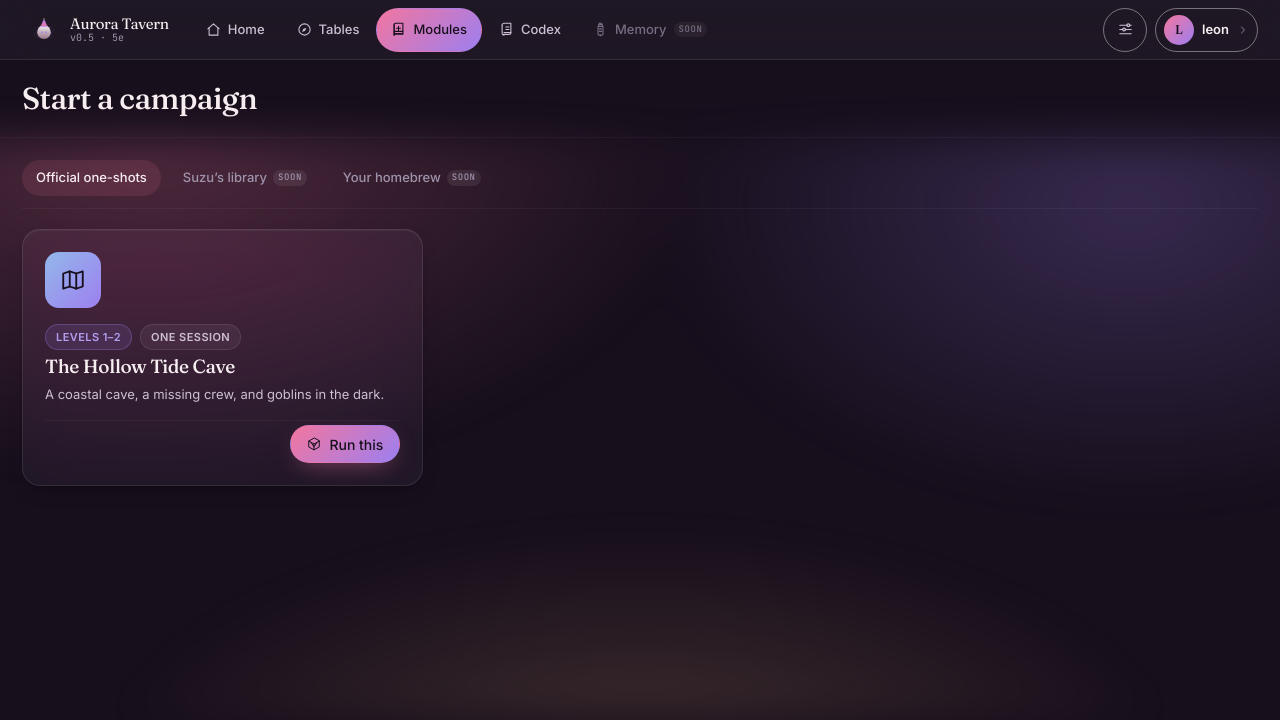
Scenario: content_rating SFW interlock › allows Mature on a private table (default)
Click the button "Run this". click: [345, 444]
box: [290,425,400,463]
(page scrolled)
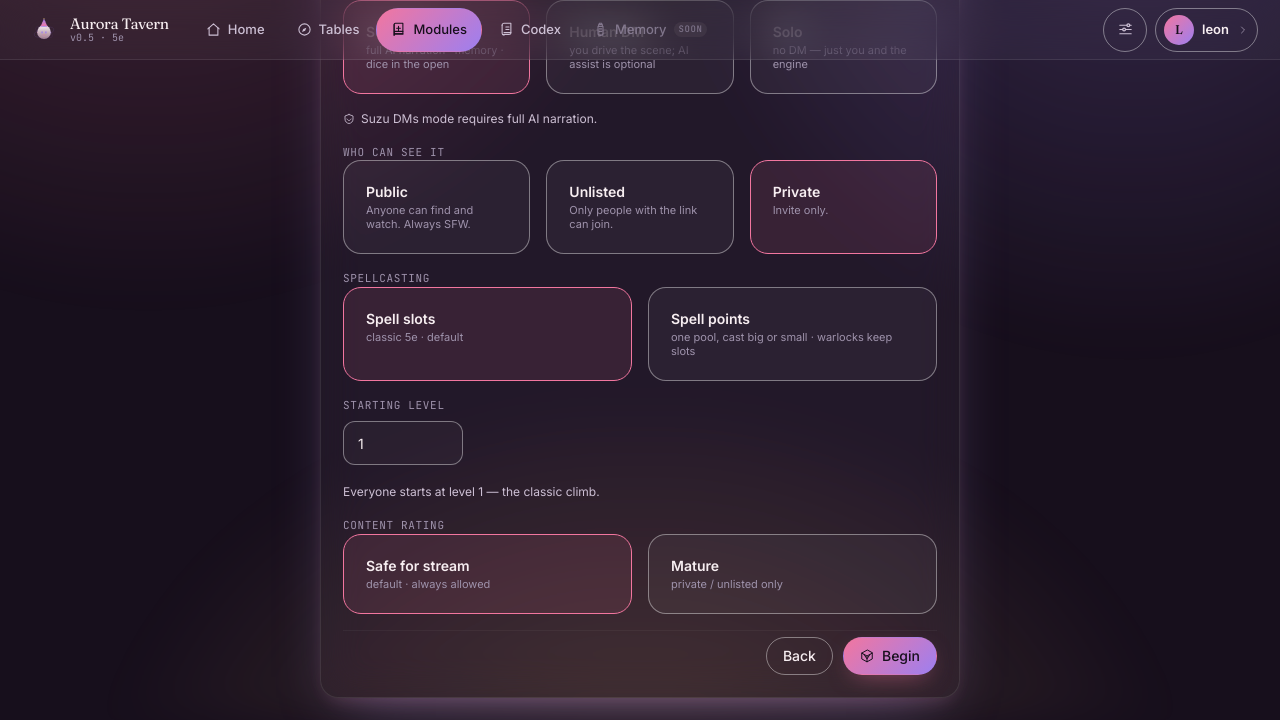
Expected: the radio button labelled "Mature private / unlisted only" is enabled, [648,534,937,614]
